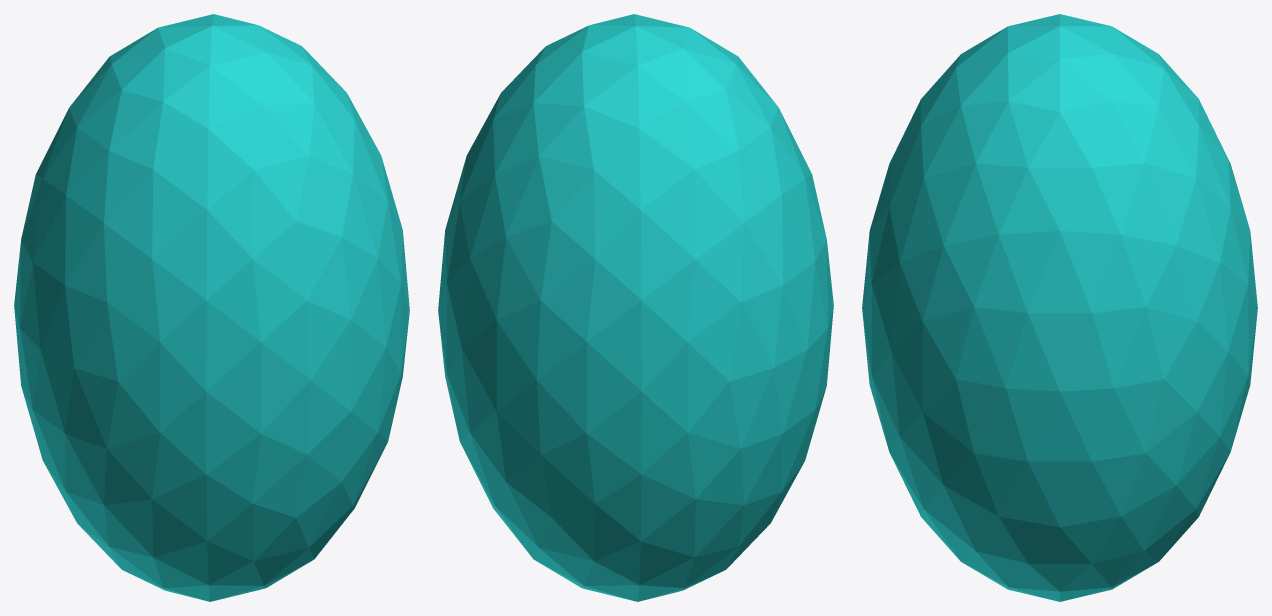
Rendered from luxury_183.glb.
3 renders of one model, left to right at view 1: azimuth 30°, elevation 25°; view 2: azimuth 150°, elevation 25°; view 3: azimuth 270°, elevation 25°, orthographic.
Parts seen in each view (by area): view 1: world; view 2: world; view 3: world.
Part boxes in pixels (x1,y1,x2,y2): world: (14, 14, 409, 601); world: (438, 14, 833, 601); world: (862, 14, 1257, 601).
Size of the model in its own units: 1.05 by 1.65 by 1.05.
